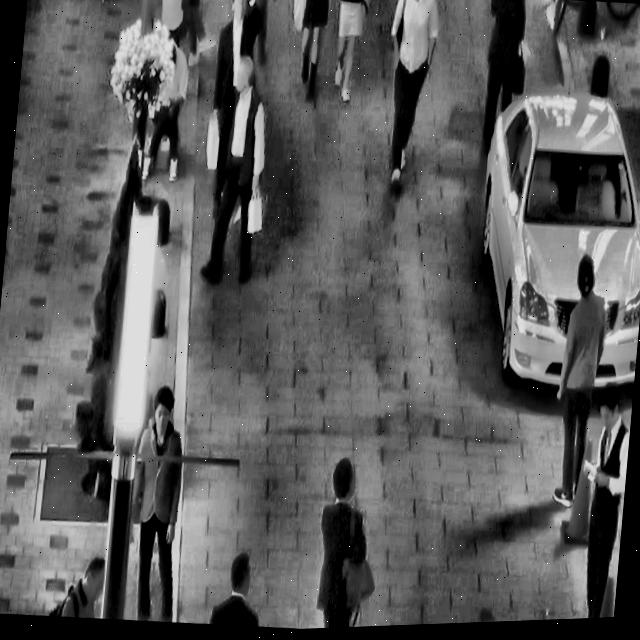light_vehicle: (460, 68, 640, 411)
